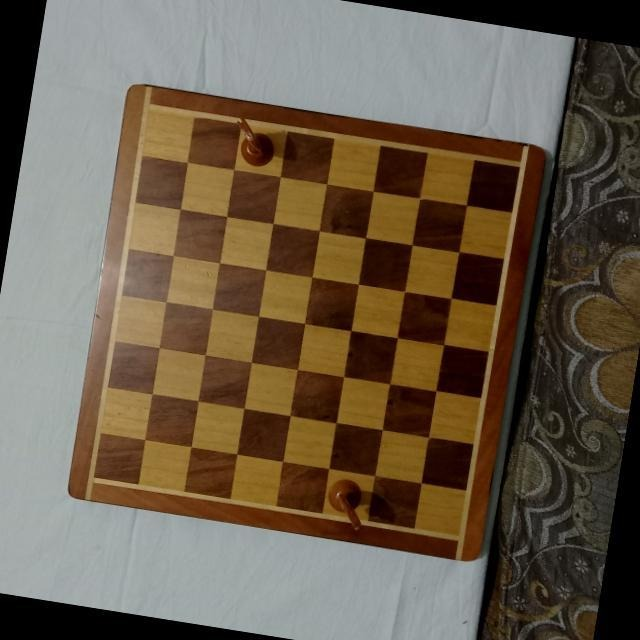white-knight: (323, 472, 371, 532), (230, 115, 279, 169)
